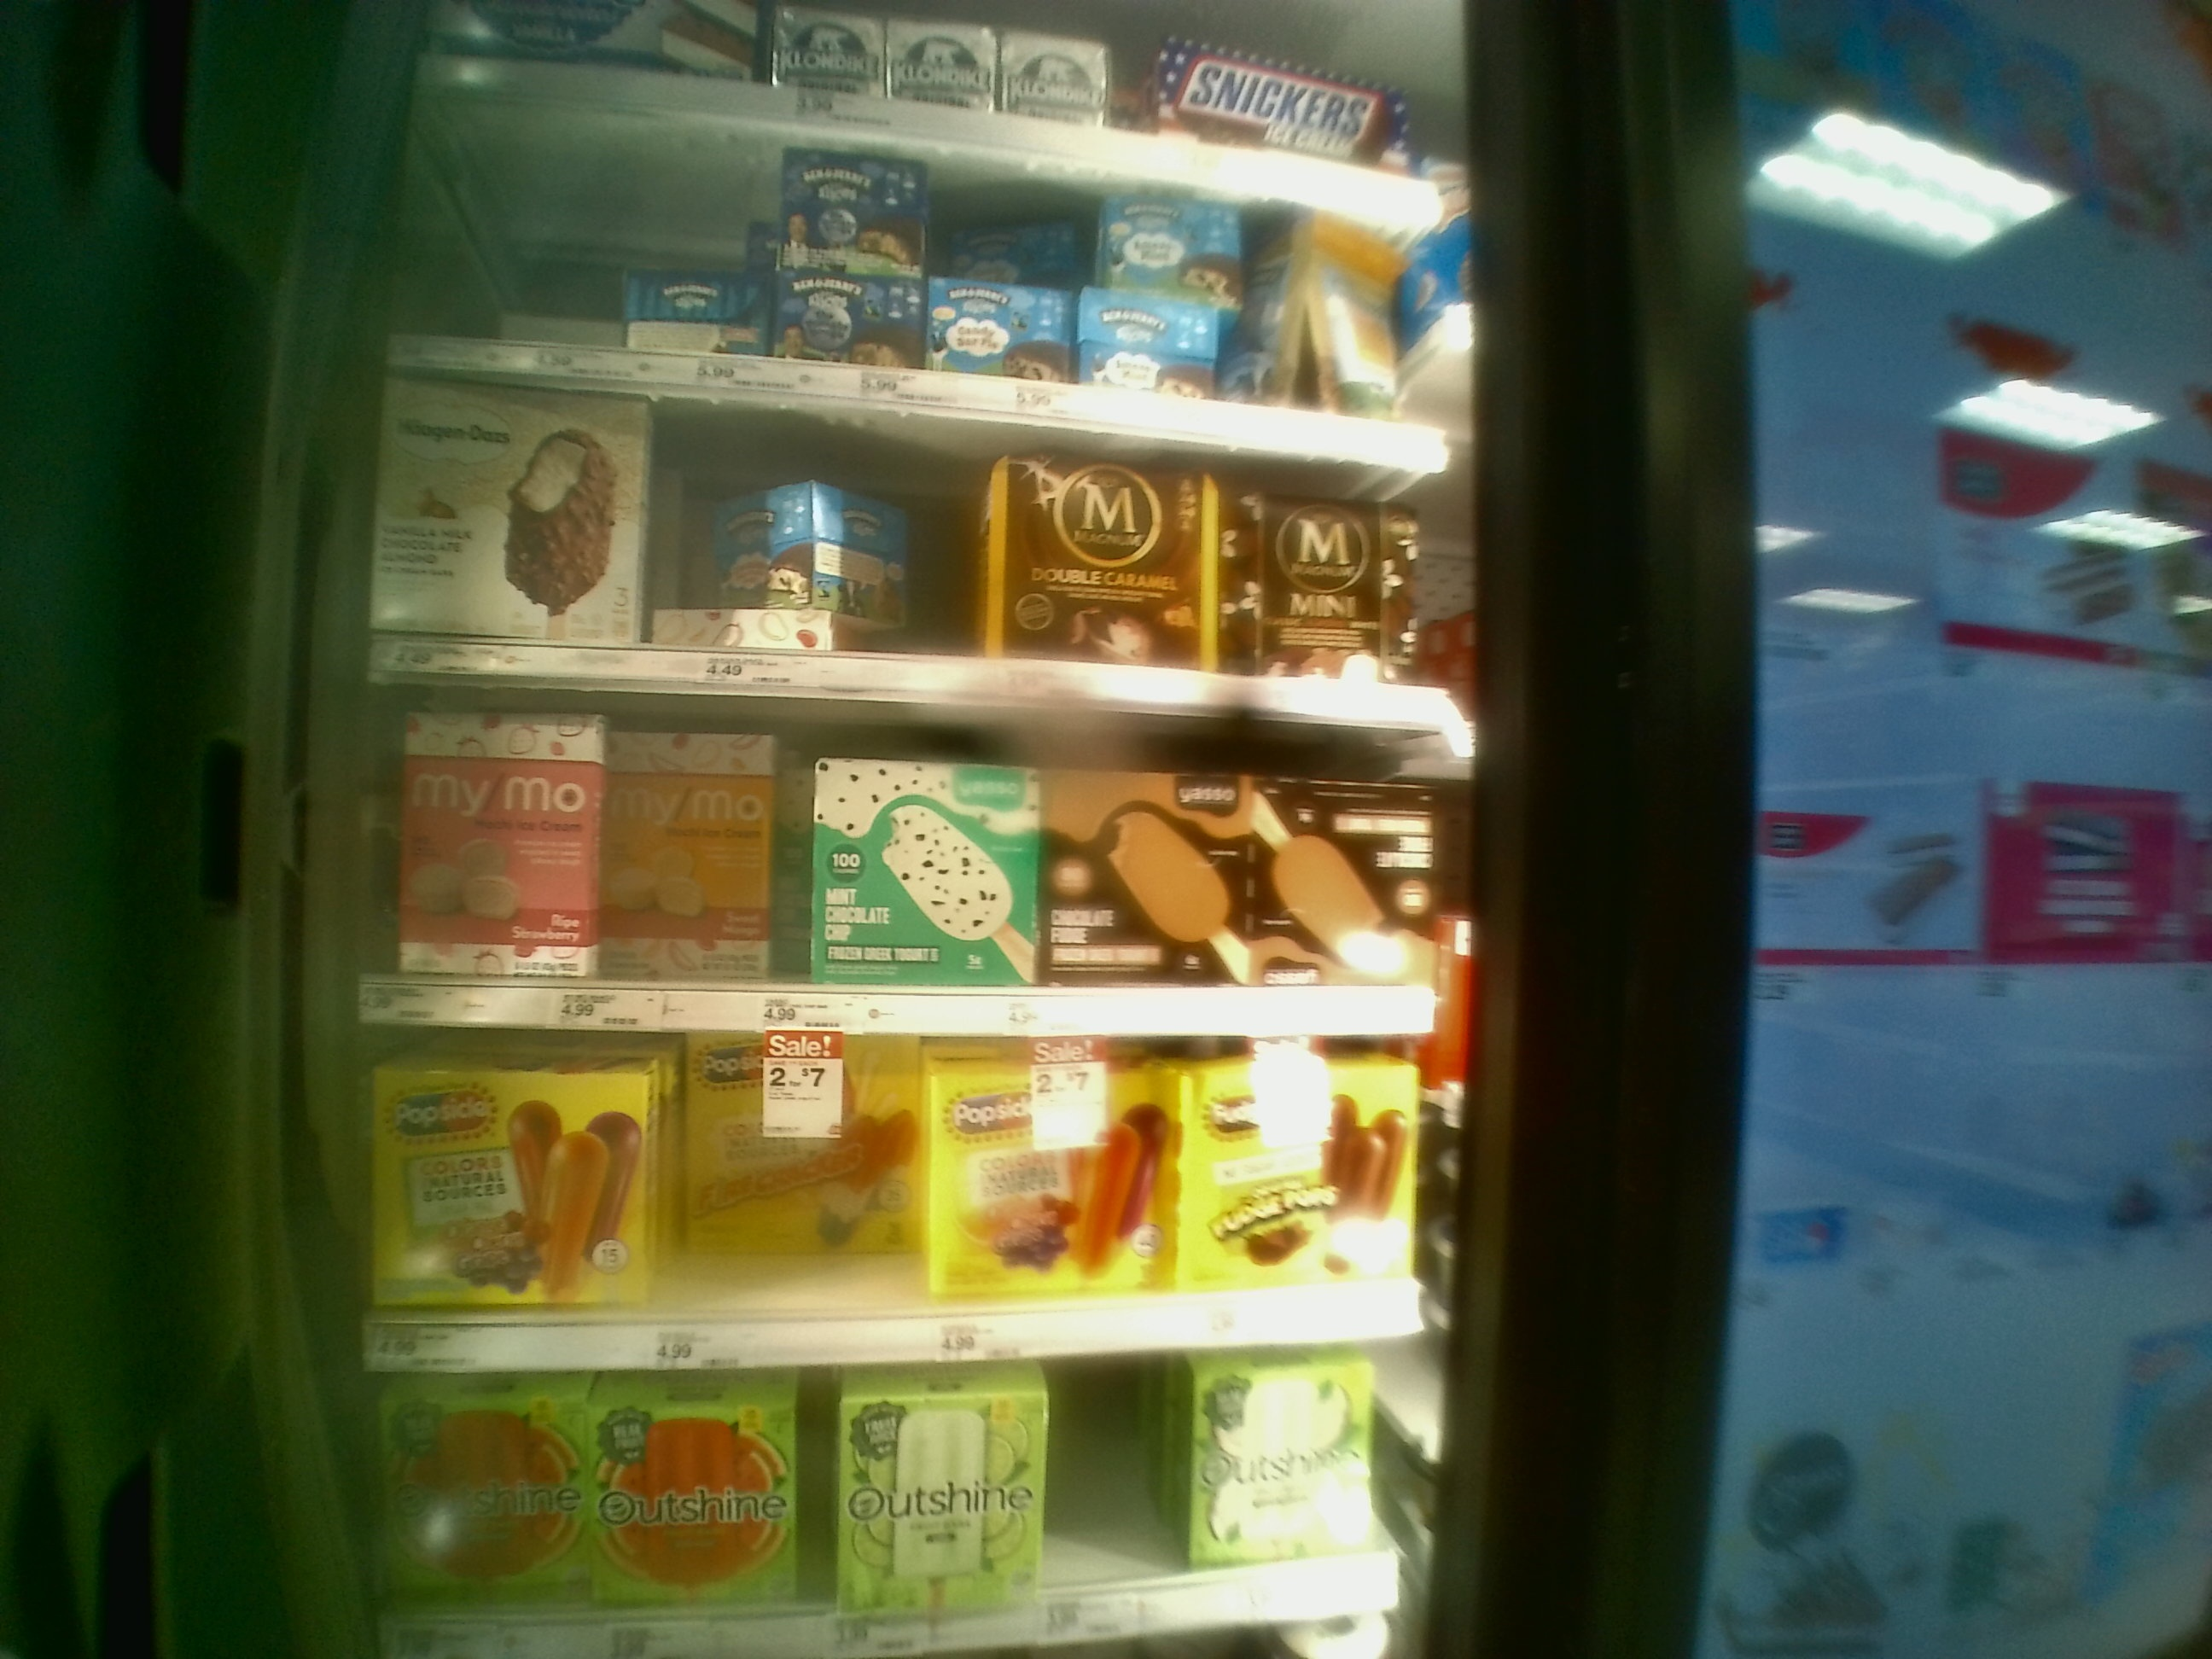shelf: (416, 78, 1470, 472), (348, 688, 1463, 1037), (347, 1023, 1451, 1371), (380, 375, 1480, 723)
